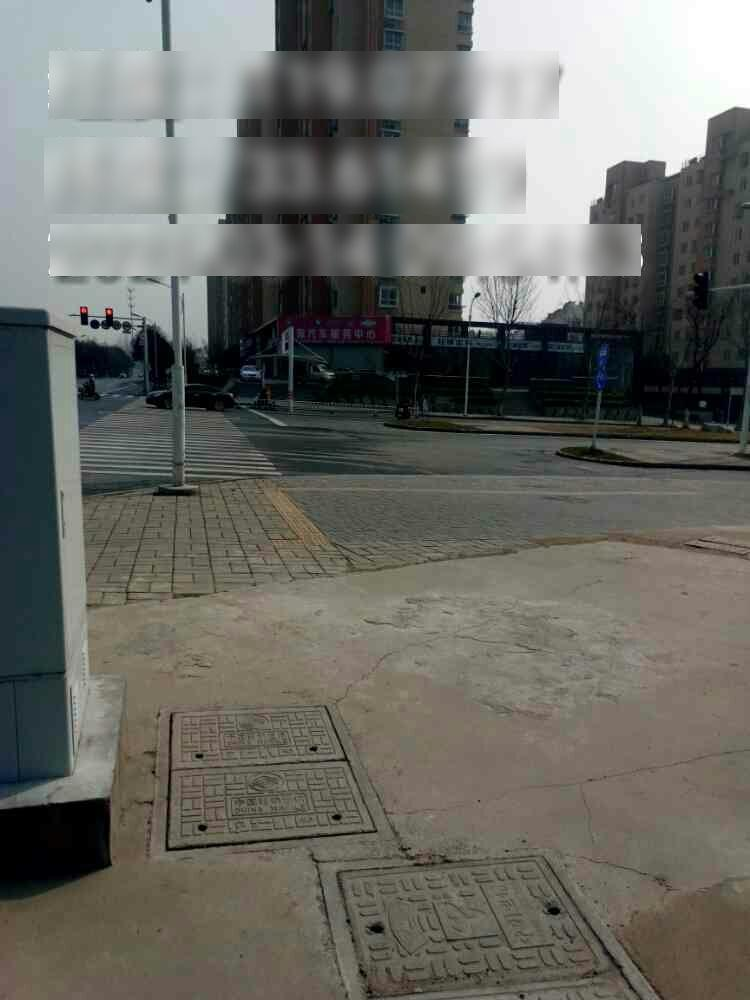wellcover: (306, 834, 630, 1000), (152, 682, 382, 854)
